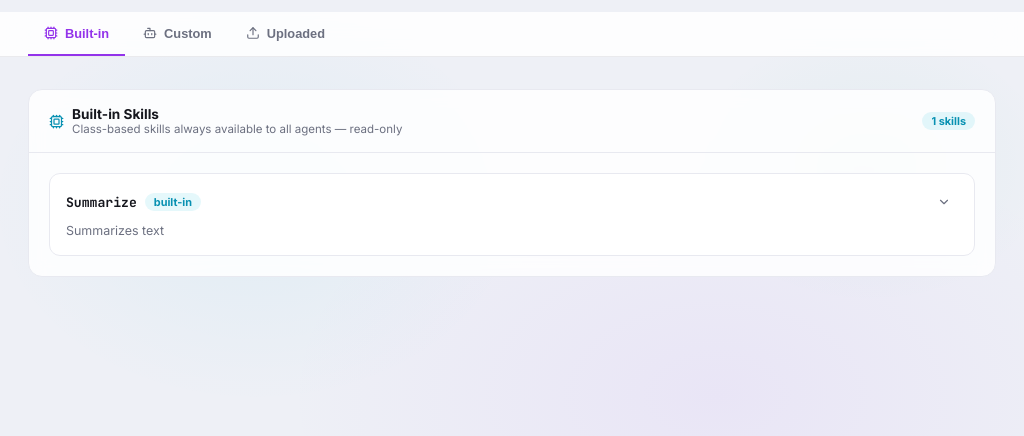
Test case: Skills page › switches to the uploaded tab
Click the button with test id "tab-uploaded": (285, 34) x1=230 y1=12 x2=341 y2=56
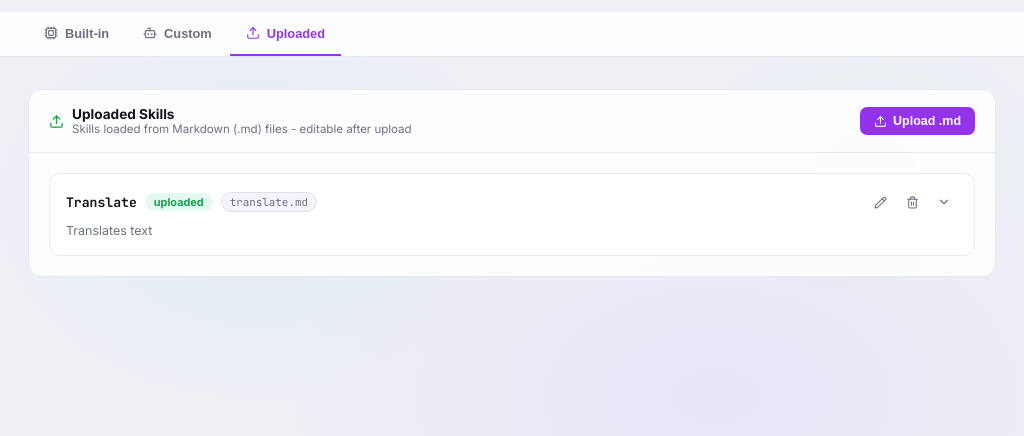
Now the text "Uploaded Skills" is shown, box x1=72 y1=106 x2=174 y2=122
Now the text "Translate" is shown, box x1=66 y1=194 x2=137 y2=210
